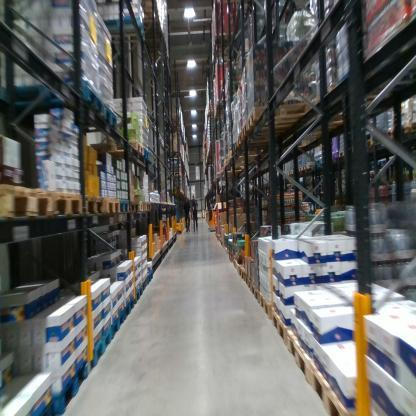pallets: (217, 237, 356, 413), (0, 182, 156, 222)
